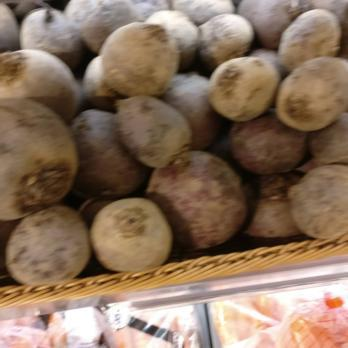beetroot: (0, 0, 348, 231), (4, 231, 174, 279)
